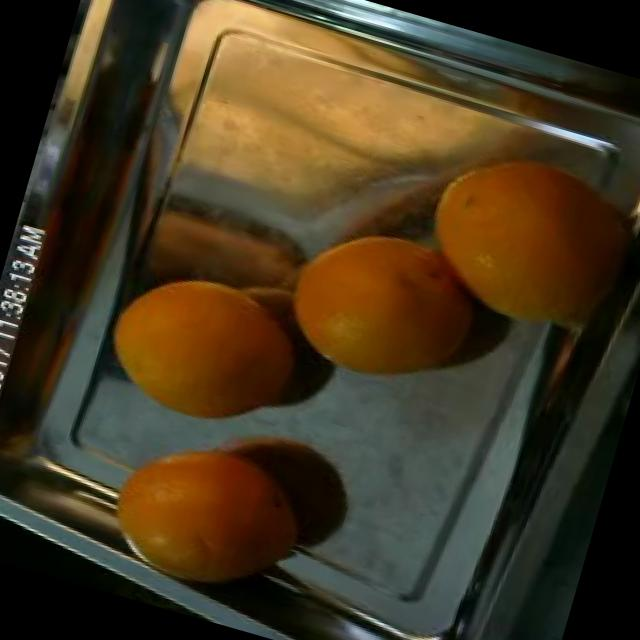Fruit: (76, 393, 348, 630), (76, 238, 341, 466)
